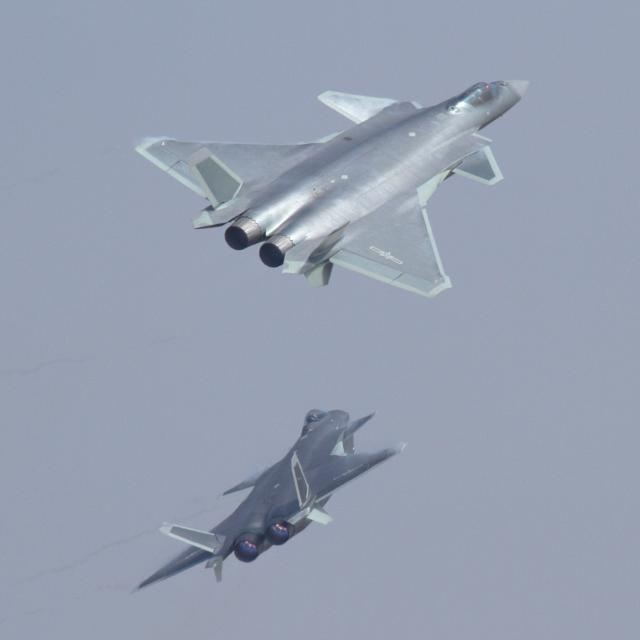MIL_Plane: (134, 80, 529, 298), (130, 409, 406, 595)
